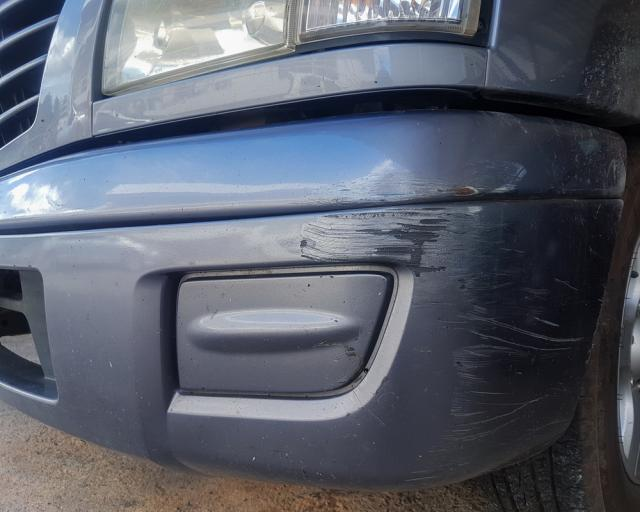scratch: (295, 158, 587, 485)
